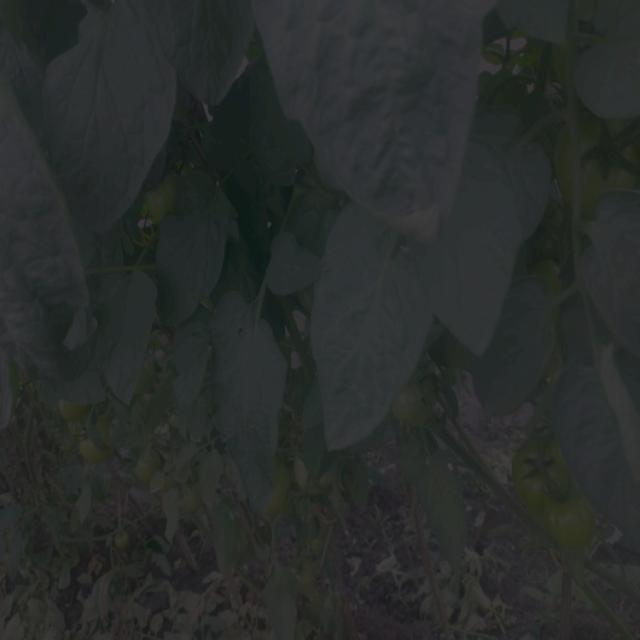tomato: (569, 113, 640, 191), (508, 432, 573, 494), (542, 488, 597, 542), (396, 375, 437, 432), (150, 174, 177, 214), (264, 468, 288, 512), (537, 256, 566, 288), (81, 432, 117, 457), (136, 445, 162, 479), (140, 357, 166, 390), (180, 483, 204, 511), (110, 524, 134, 550), (61, 398, 86, 420)
